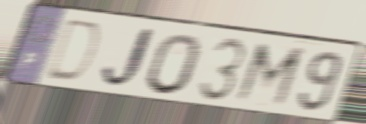3: (196, 35, 248, 105)
9: (295, 50, 344, 115)
D: (41, 16, 105, 87)
J: (97, 25, 158, 93)
M: (230, 40, 309, 113)
O: (144, 31, 203, 98)
